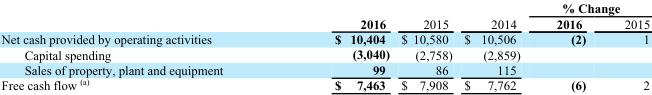table: (0, 0, 649, 92)
table column: (0, 0, 278, 92), (278, 0, 394, 92), (457, 0, 537, 92), (537, 0, 604, 92), (394, 0, 457, 92), (604, 0, 649, 92)
table column header: (0, 0, 649, 31)
table row: (0, 15, 649, 31), (0, 76, 649, 92), (0, 0, 649, 15), (0, 31, 649, 46), (0, 46, 649, 61), (0, 61, 649, 76)
table spanning cell: (278, 0, 394, 31), (457, 0, 537, 31), (394, 0, 457, 31), (537, 0, 649, 15)
